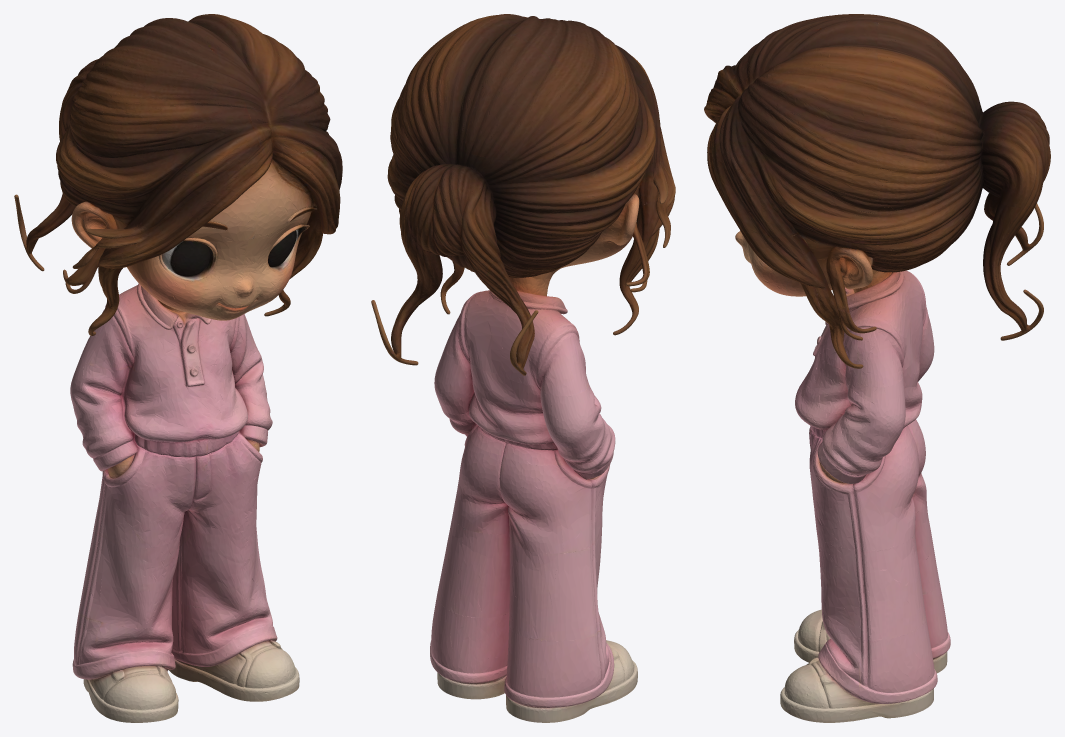
File: aiprintgen_Cute Girl in Pink Tracksuit Figurine-preview.glb
The picture shows the model from 3 angles, left to right: view 1: azimuth 30°, elevation 25°; view 2: azimuth 150°, elevation 25°; view 3: azimuth 270°, elevation 25°; orthographic projection. The views are drawn at different scales.
Visible parts, largest first — view 1: aiprintgen_0; view 2: aiprintgen_0; view 3: aiprintgen_0.
Boxes of the visible parts, x1=… form: aiprintgen_0: x1=14, y1=14, x2=342, y2=722; aiprintgen_0: x1=371, y1=14, x2=675, y2=722; aiprintgen_0: x1=704, y1=14, x2=1050, y2=722.
Size of the model in its own units: 0.4024 by 0.9997 by 0.4721.
Materials: 1 (1 with a texture image).
